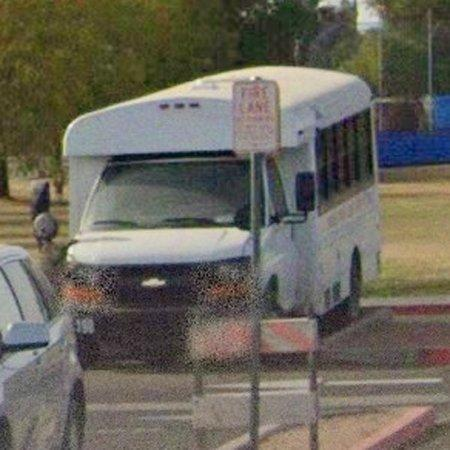buses: (63, 66, 381, 369)
